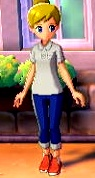woman_no_egg: (13, 1, 86, 176)
